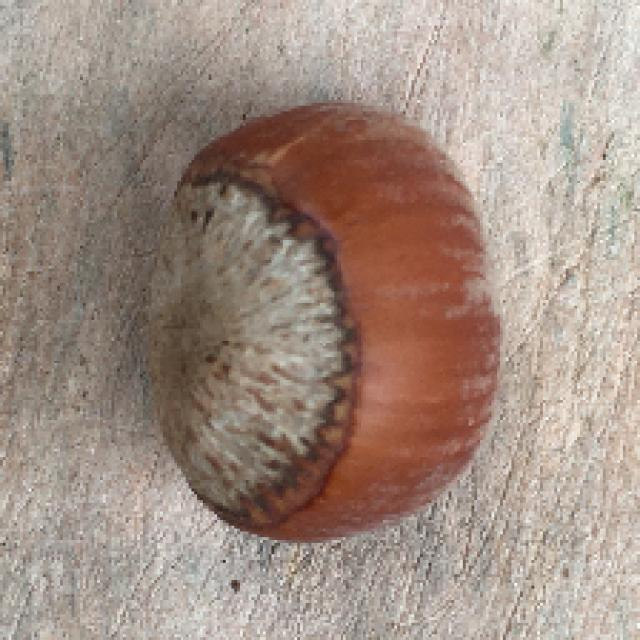qualityHazelnut: (132, 88, 507, 562)
